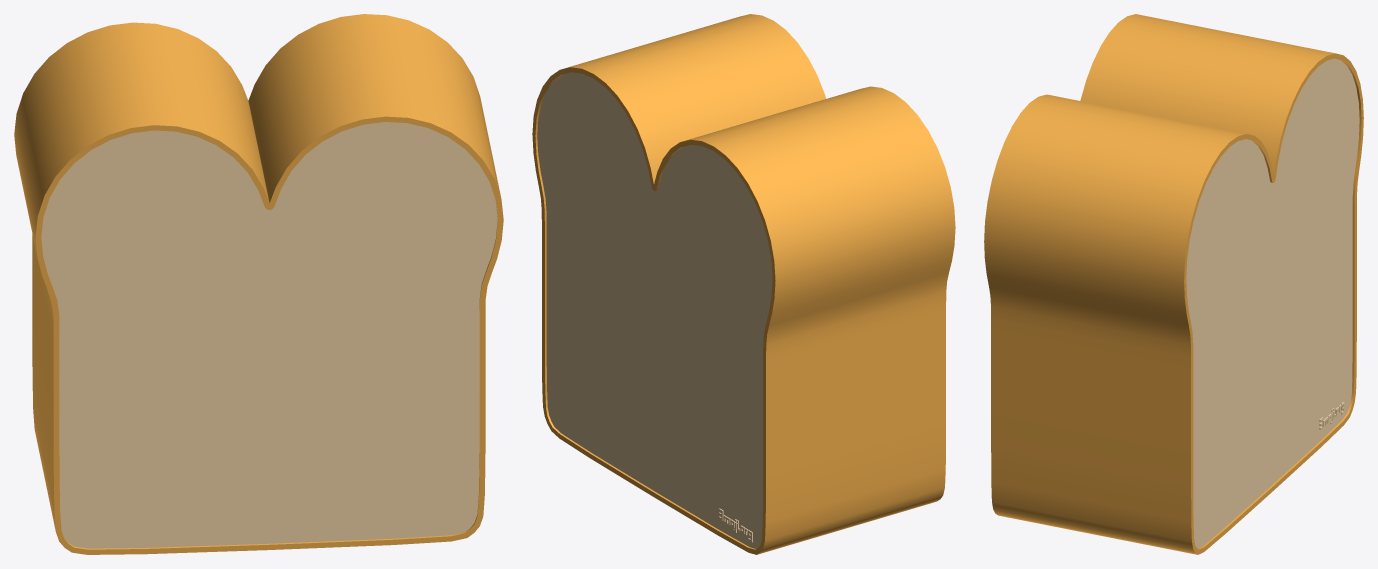
The model's file is bread.gltf.
3 views of the same model, side by side, from view 1: azimuth 30°, elevation 25°; view 2: azimuth 150°, elevation 25°; view 3: azimuth 270°, elevation 25° (orthographic). The views are drawn at different scales.
Parts seen in each view (by area): view 1: Circle.2201; view 2: Circle.2201; view 3: Circle.2201.
Boxes of the visible parts, left/top/right/bottom form: Circle.2201: left=14, top=14, right=503, bottom=554; Circle.2201: left=532, top=14, right=955, bottom=554; Circle.2201: left=984, top=14, right=1363, bottom=554.
Size of the model in its own units: 2.19 by 1.96 by 1.74.
1 material, 1 textured.
